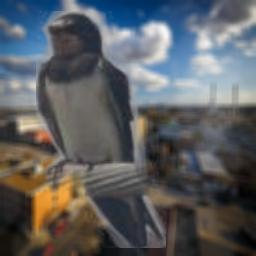Swallow: (36, 11, 166, 248)
